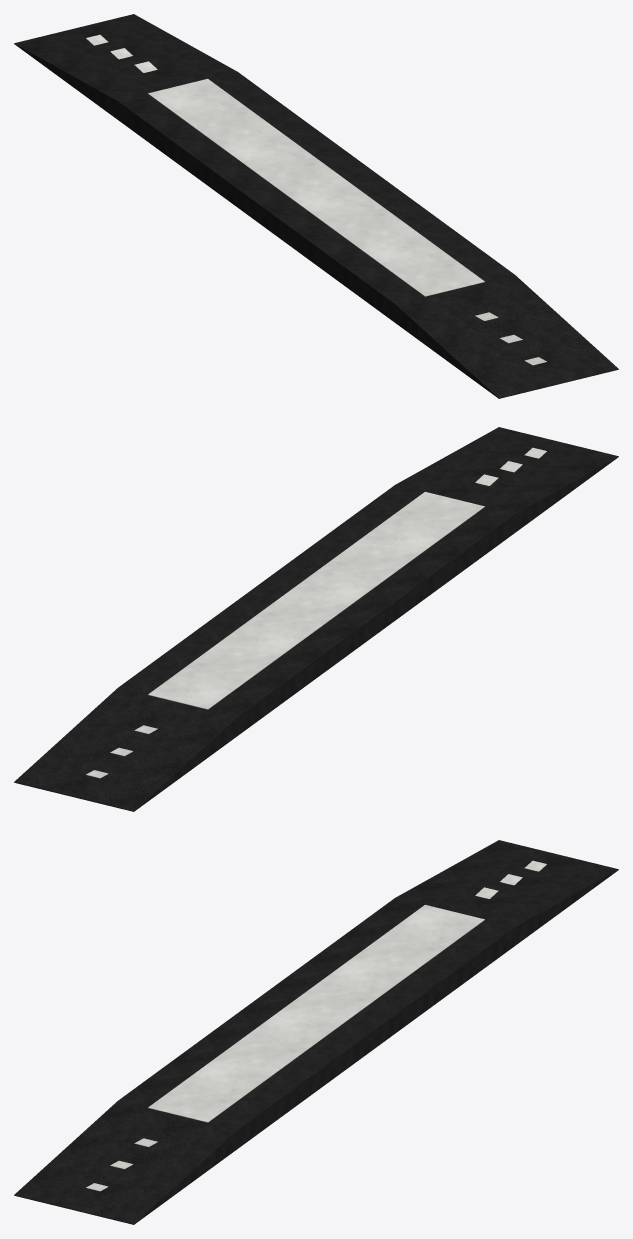
Rendered from PAV-CAL-003_lod1.glb.
3 views of the same model, one above another, from view 1: azimuth 30°, elevation 25°; view 2: azimuth 150°, elevation 25°; view 3: azimuth 330°, elevation 25° (orthographic).
Parts seen in each view (by area): view 1: PAV-CAL-003_corpo, PAV-CAL-003_faixa; view 2: PAV-CAL-003_corpo, PAV-CAL-003_faixa; view 3: PAV-CAL-003_corpo, PAV-CAL-003_faixa.
Boxes of the visible parts, box(x1,y1,x2,y2) form: PAV-CAL-003_corpo: box(14, 14, 618, 398); PAV-CAL-003_faixa: box(148, 79, 484, 296); PAV-CAL-003_corpo: box(14, 427, 618, 811); PAV-CAL-003_faixa: box(148, 492, 484, 709); PAV-CAL-003_corpo: box(14, 840, 618, 1224); PAV-CAL-003_faixa: box(148, 905, 484, 1122).
Size of the model in its own units: 0.9998 by 0.1539 by 7.
2 materials, 2 textured.
